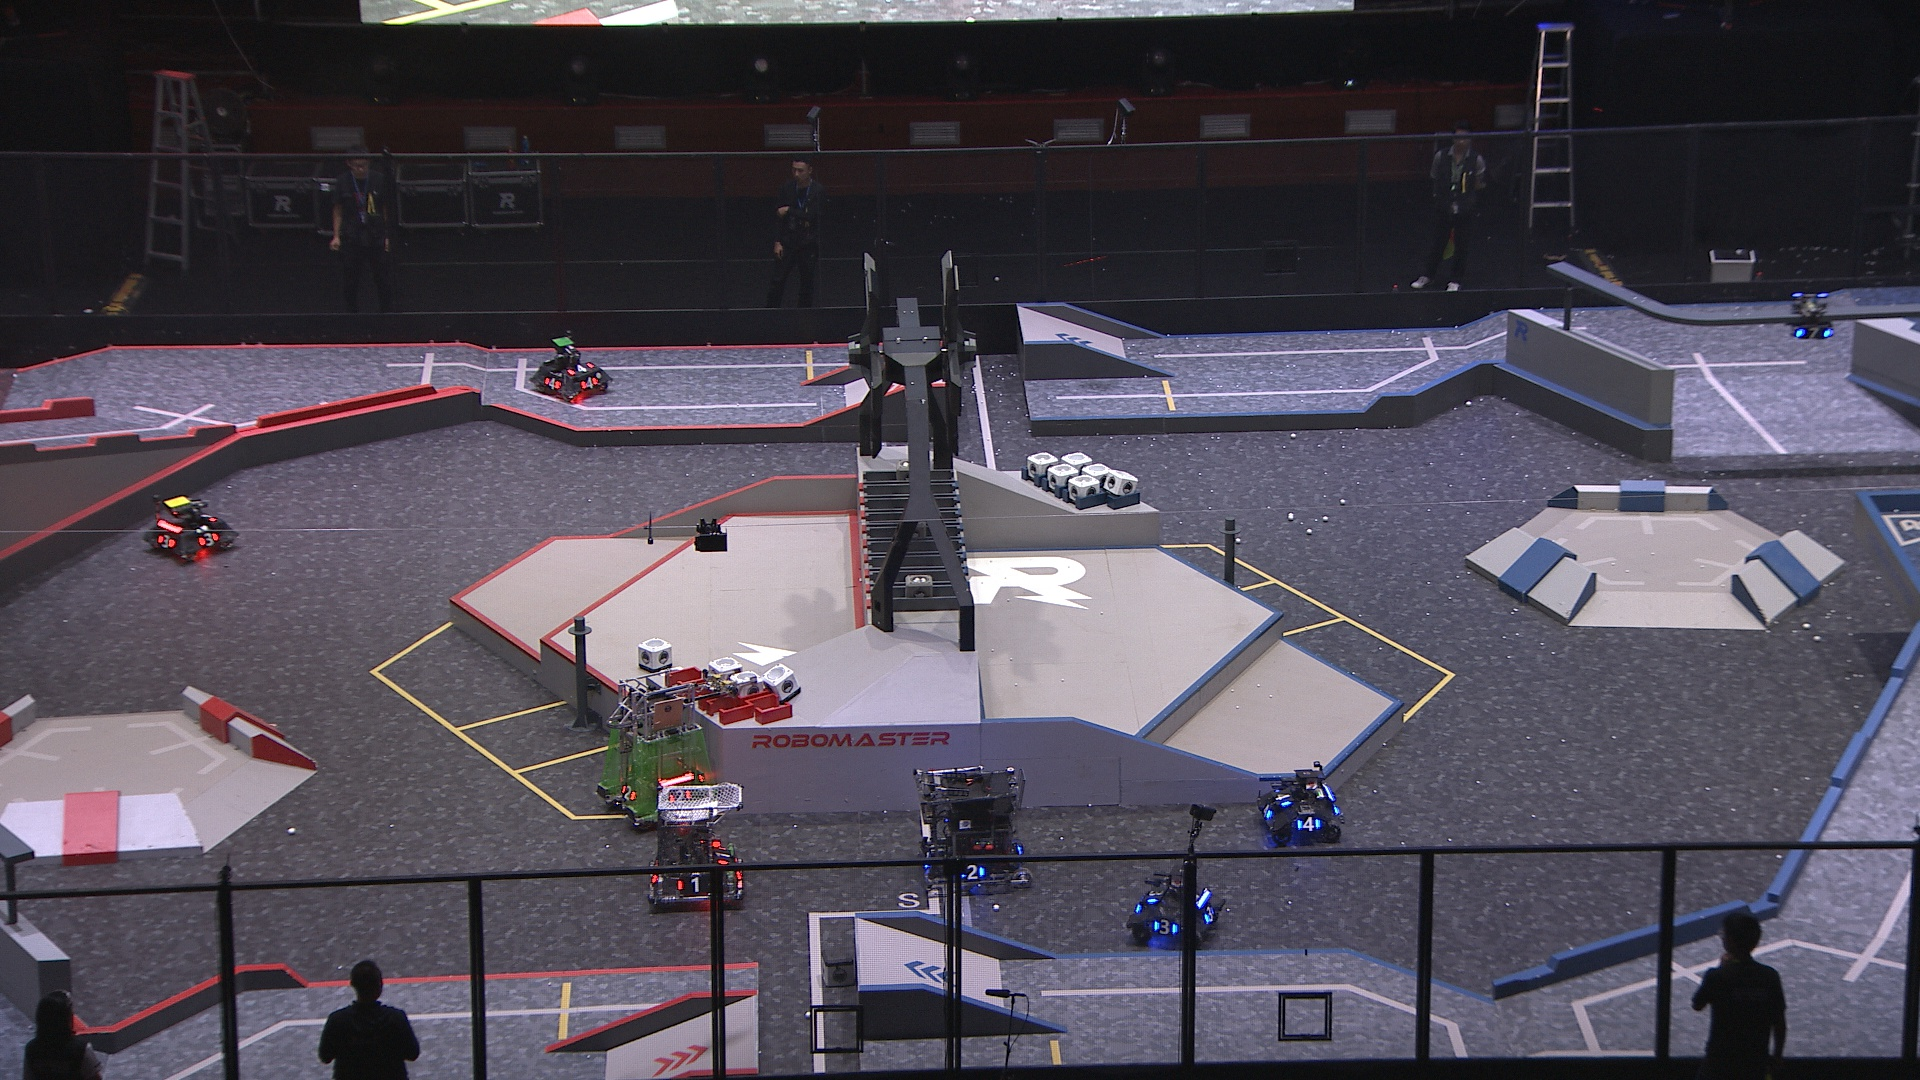armor: (675, 874, 712, 895), (1797, 324, 1833, 342), (1153, 916, 1179, 939), (961, 861, 986, 884), (196, 529, 223, 549), (716, 845, 733, 870), (1147, 885, 1167, 906), (566, 363, 595, 376), (1298, 816, 1321, 832), (1275, 789, 1294, 808), (156, 533, 177, 550), (542, 375, 562, 392), (579, 376, 600, 392), (618, 785, 638, 800), (1261, 803, 1276, 822), (1204, 906, 1218, 924)
car: (595, 665, 713, 828), (911, 764, 1033, 891), (646, 785, 746, 911), (1259, 761, 1348, 847), (1129, 869, 1218, 949), (144, 491, 240, 564), (529, 332, 615, 404)
watcher: (1788, 290, 1836, 343)
